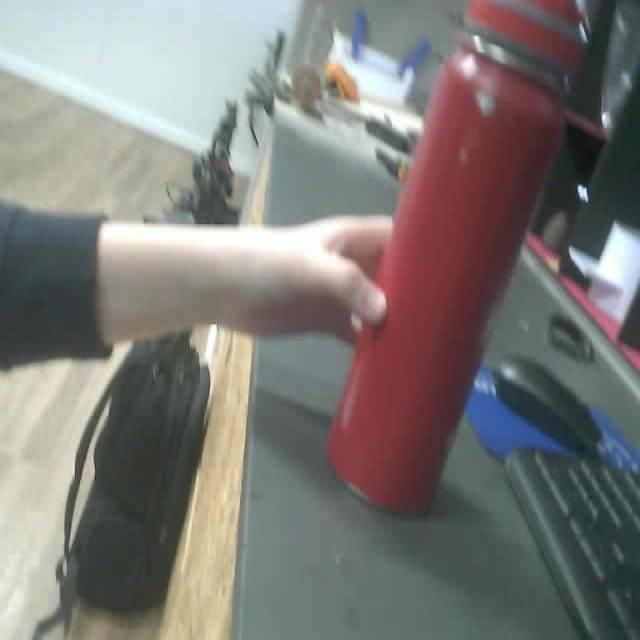water bottle: (323, 0, 591, 517)
